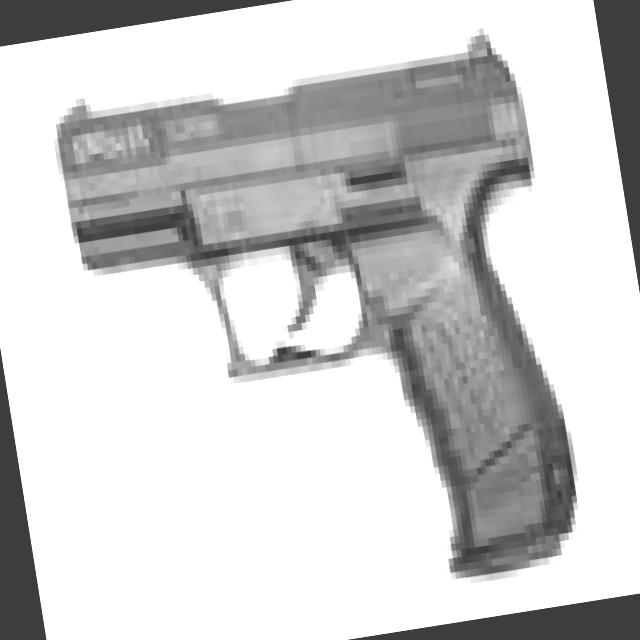handgun: (45, 17, 590, 624)
